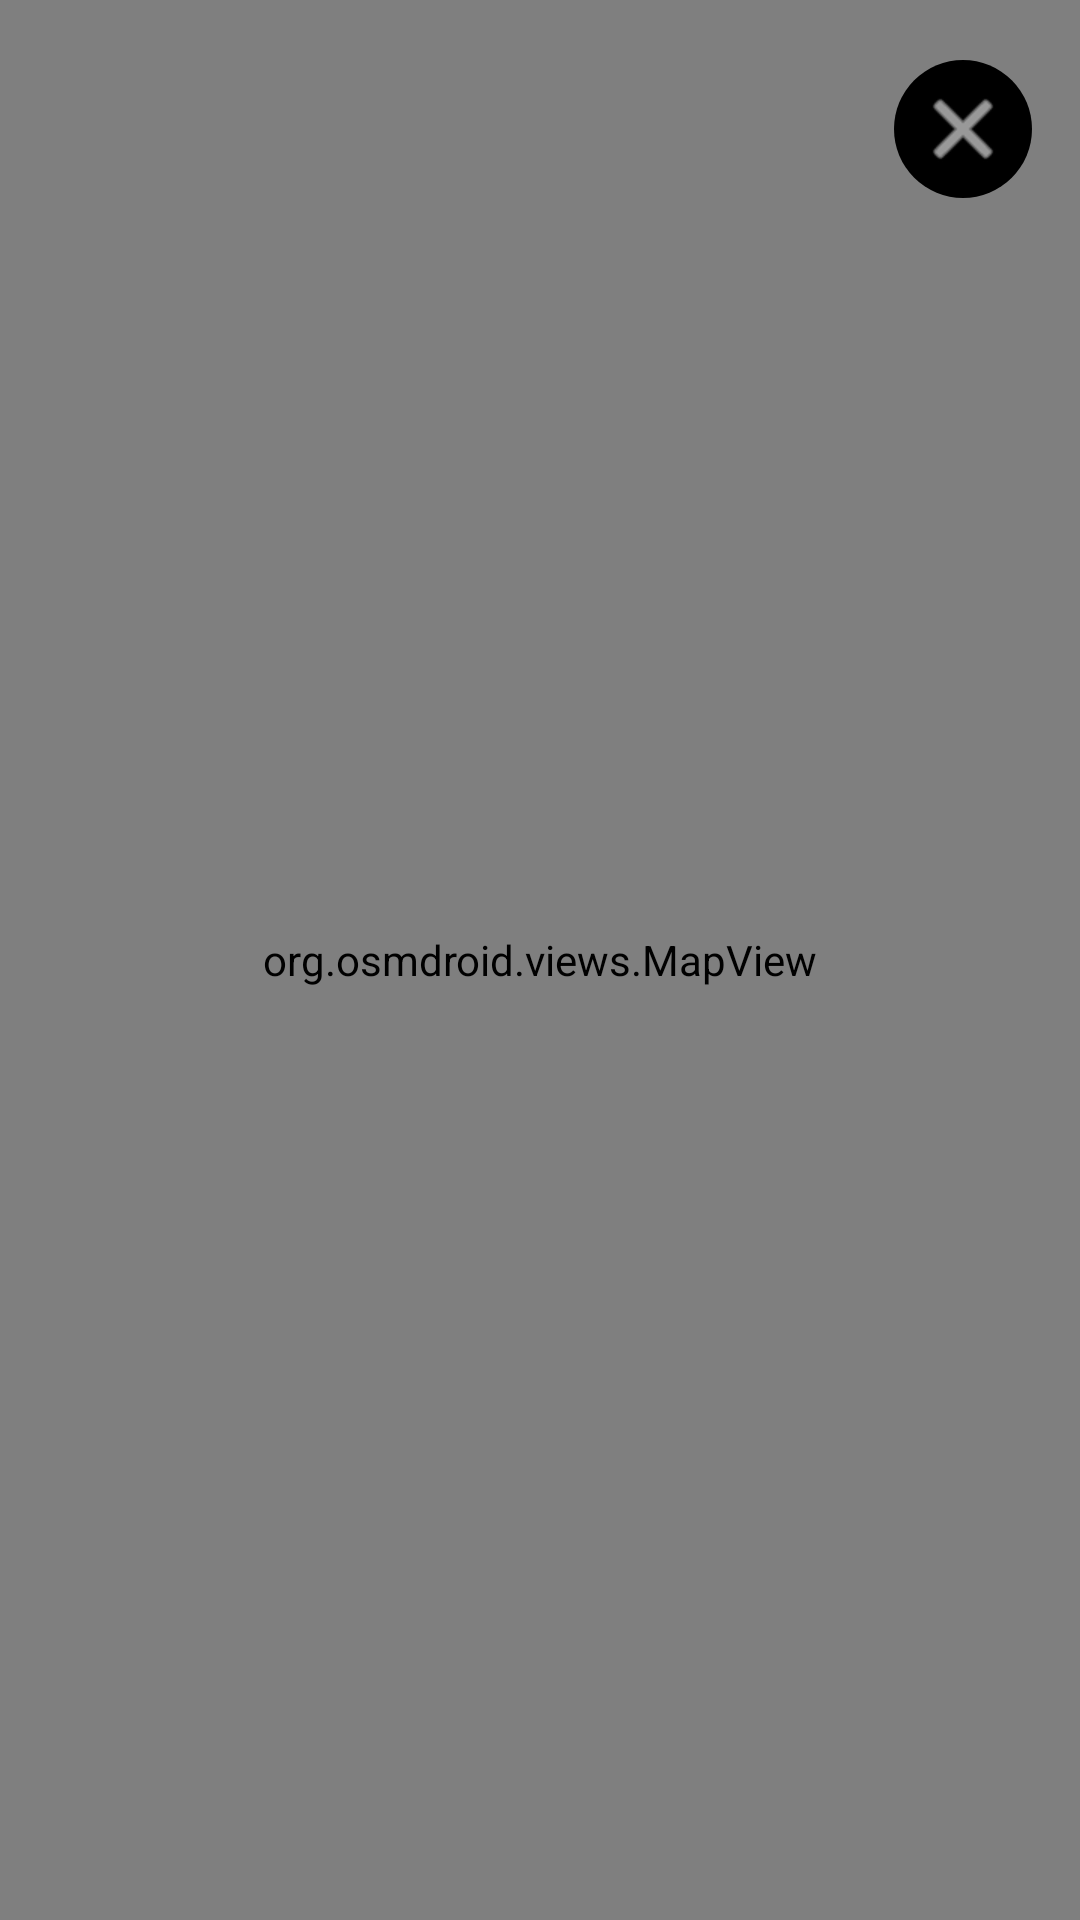

Screen size 1080×1920. Icon name, then its center in pixels as (x,y):
close clear cancel: (963,129)
